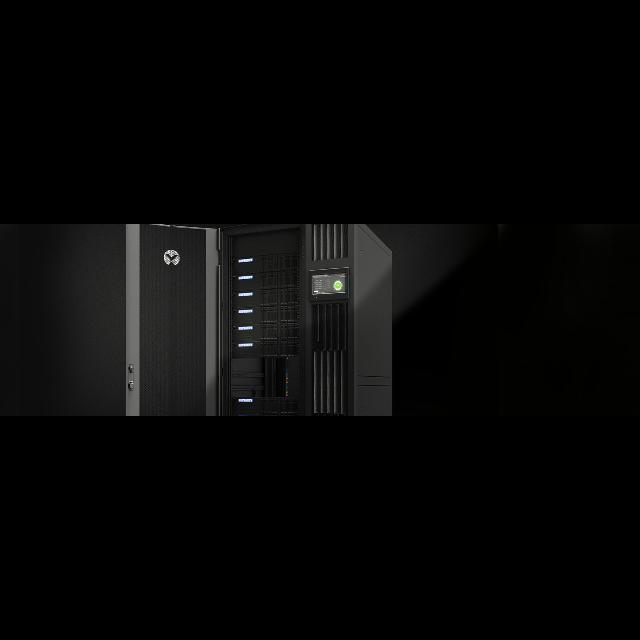Server: (218, 224, 396, 416)
